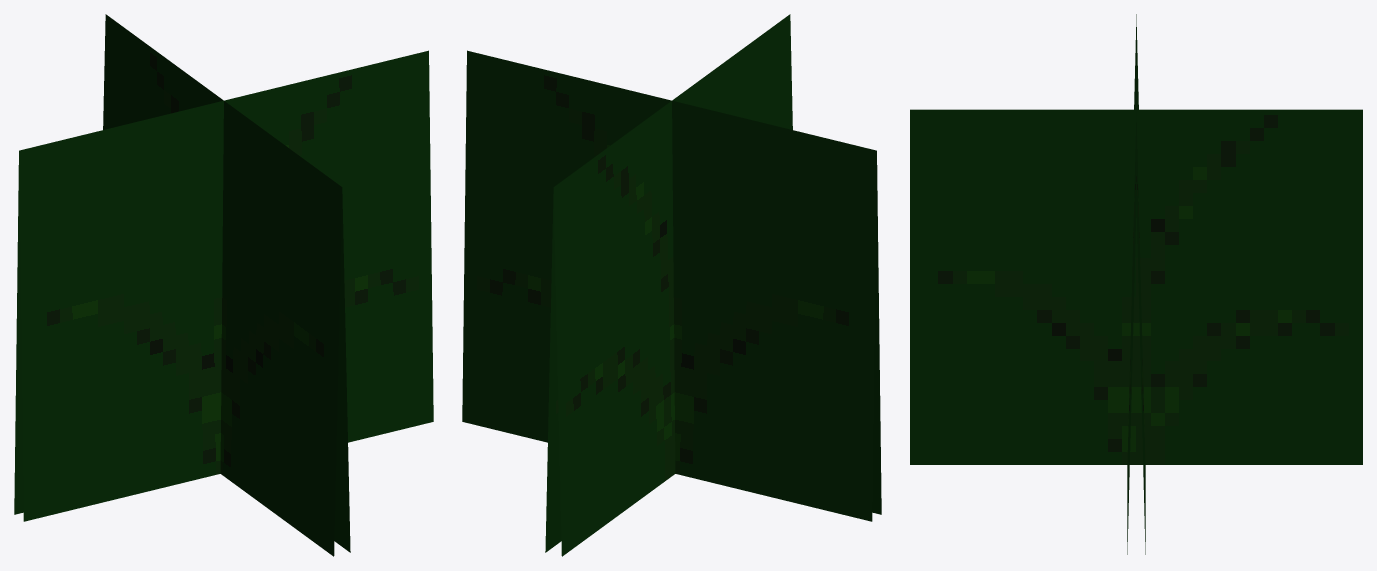
The model's file is grass04_summer.glb.
The picture shows the model from 3 angles, left to right: view 1: azimuth 30°, elevation 25°; view 2: azimuth 150°, elevation 25°; view 3: azimuth 270°, elevation 25°; orthographic projection. The views are drawn at different scales.
Parts seen in each view (by area): view 1: grass04; view 2: grass04; view 3: grass04.
Boxes of the visible parts, left/top/right/bottom form: grass04: left=14, top=14, right=433, bottom=556; grass04: left=462, top=14, right=881, bottom=556; grass04: left=910, top=14, right=1362, bottom=554.
Size of the model in its own units: 0.4 by 0.3429 by 0.4.
1 material, 1 textured.
